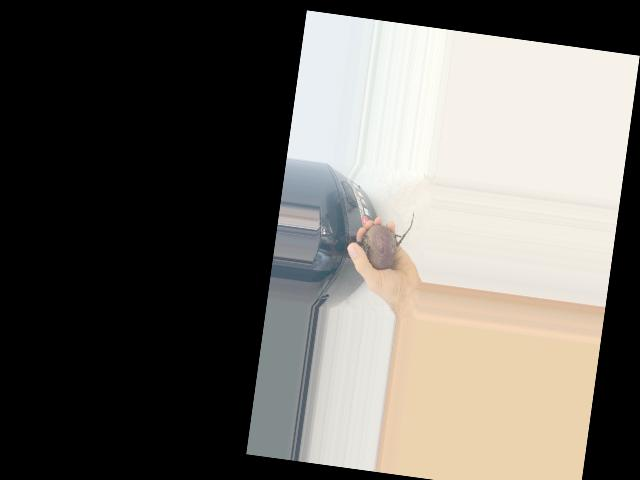beet: (353, 204, 414, 273)
